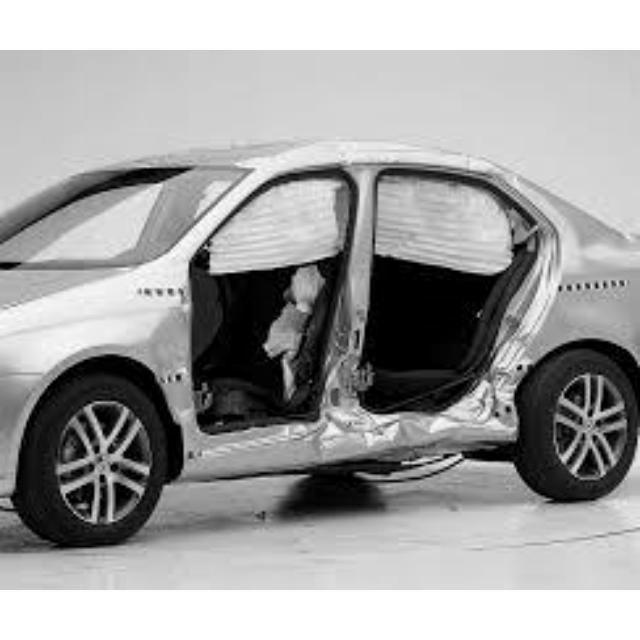Runningboard-Damage: (221, 396, 530, 456)
doorouter-dent: (365, 153, 556, 365)
